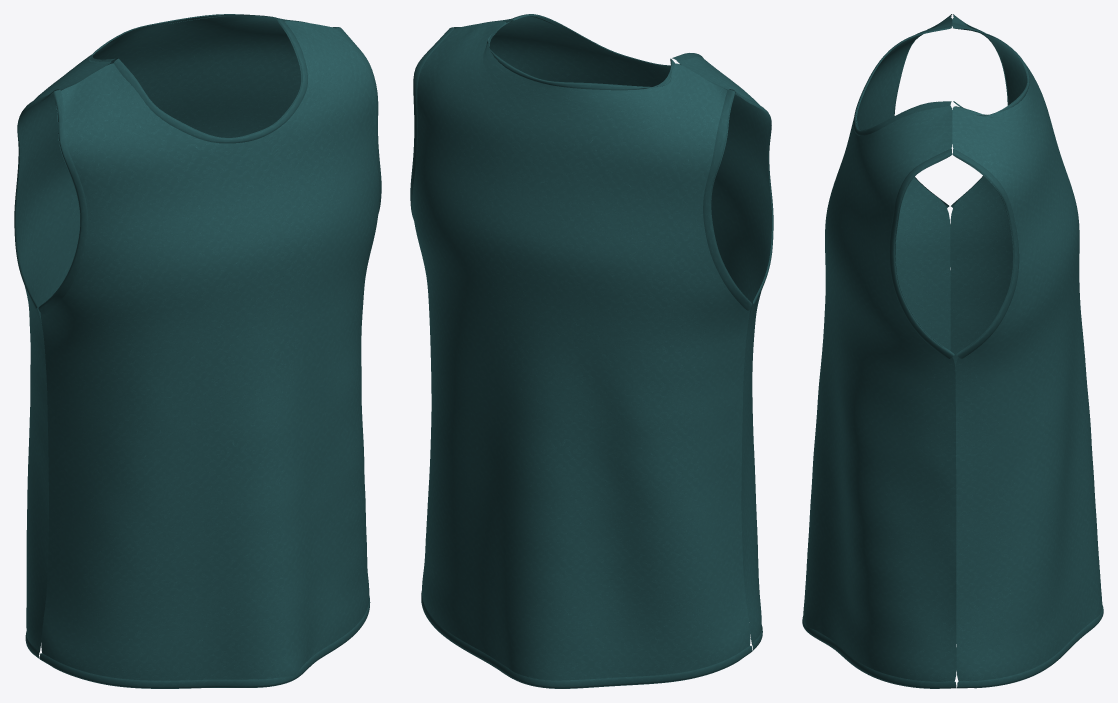
File: 浅弧领长背心.glb
The picture shows the model from 3 angles, left to right: view 1: azimuth 30°, elevation 25°; view 2: azimuth 150°, elevation 25°; view 3: azimuth 270°, elevation 25°; orthographic projection. The views are drawn at different scales.
Visible parts, largest first — view 1: 前身, 后身, 前身 包边, 后身 包边; view 2: 后身, 前身, 后身 包边, 前身 包边; view 3: 前身, 后身, 前身 包边, 后身 包边.
Part boxes in pixels (box(x1,y1,x2,y2)): 前身: box(40, 21, 379, 688); 后身: box(15, 14, 336, 654); 前身 包边: box(38, 19, 381, 688); 后身 包边: box(14, 14, 340, 658); 后身: box(412, 21, 750, 688); 前身: box(454, 15, 772, 645); 后身 包边: box(410, 21, 752, 688); 前身 包边: box(451, 14, 773, 650); 前身: box(803, 17, 956, 688); 后身: box(950, 17, 1102, 688); 前身 包边: box(802, 14, 956, 688); 后身 包边: box(951, 14, 1103, 688).
Bounding box in the file's own units: 0.3523 × 0.6093 × 0.2977.
Materials: 4 (4 with a texture image).
